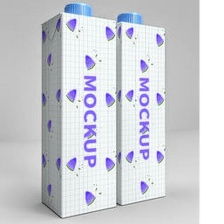carton: (37, 1, 118, 219), (113, 9, 169, 207)
